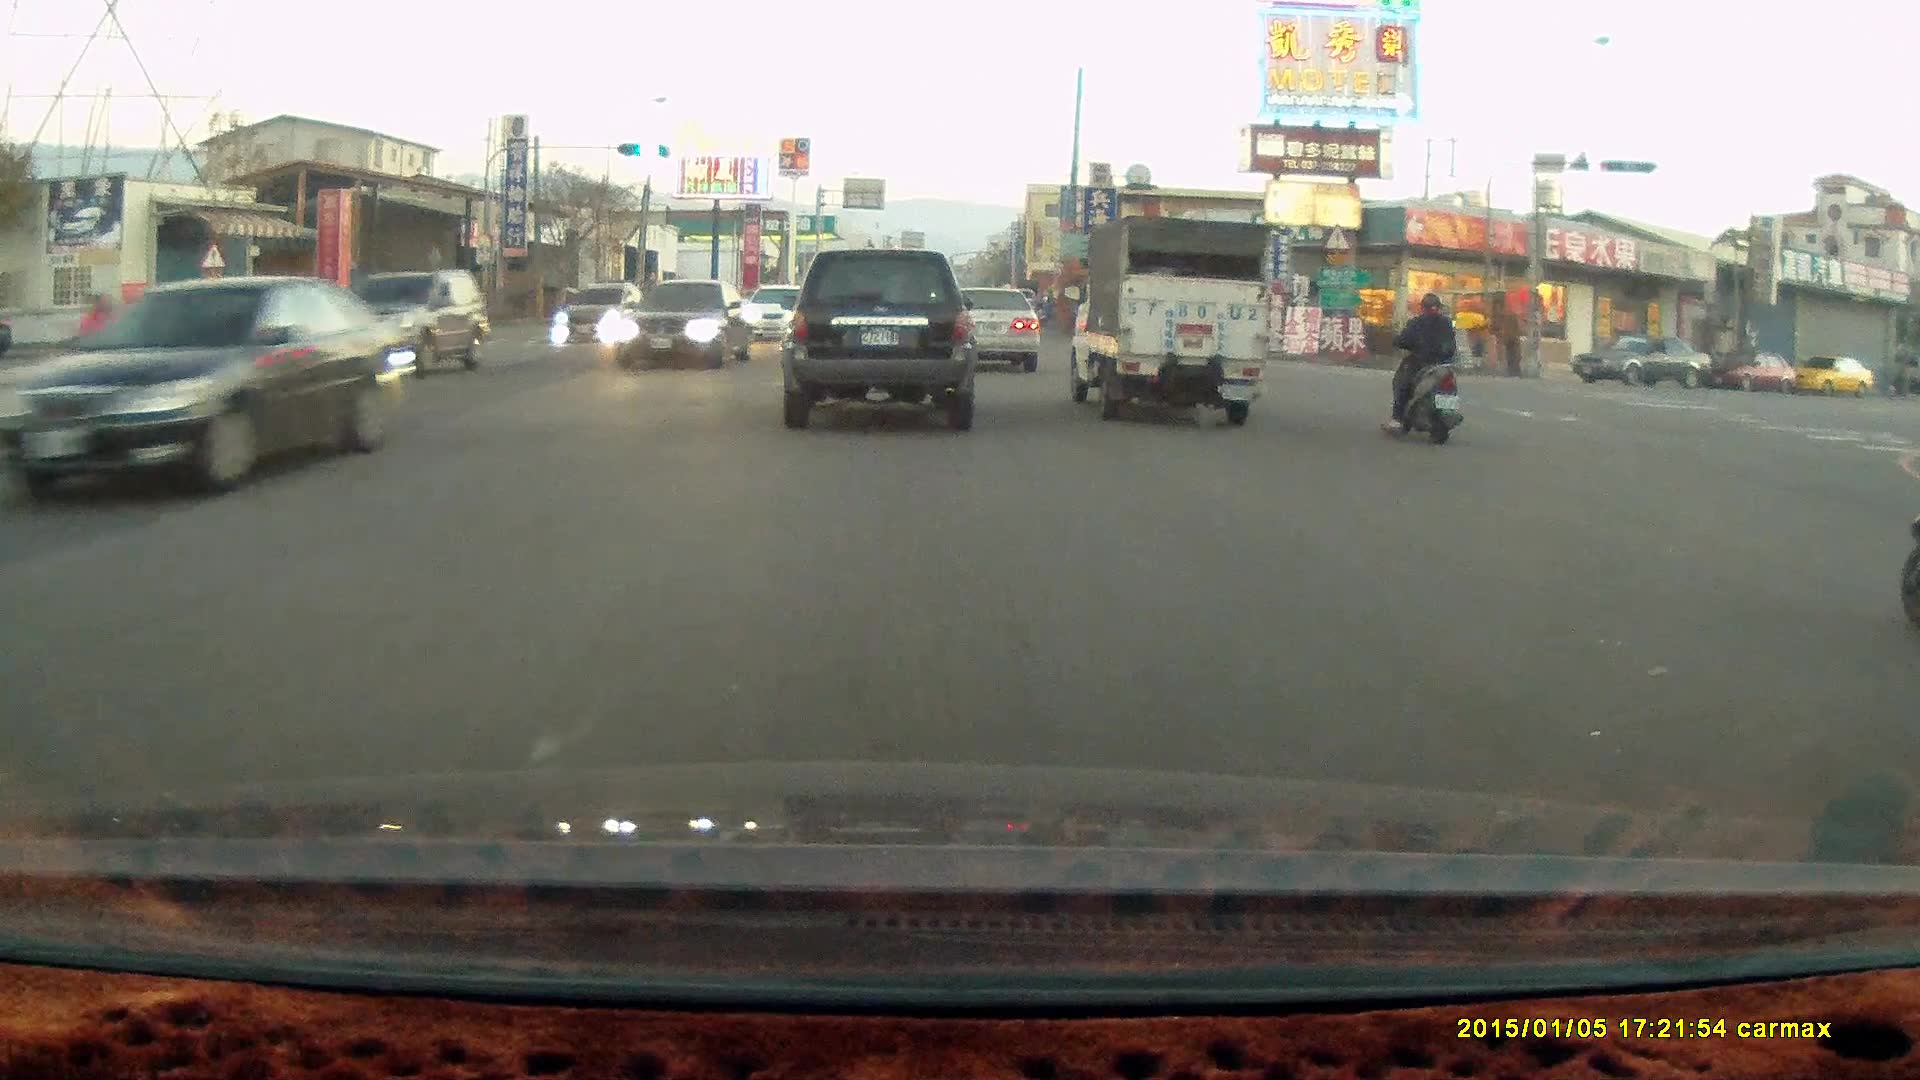rider: (1382, 291, 1461, 447)
vehicle: (1, 281, 418, 510), (1062, 213, 1276, 428), (780, 247, 977, 433), (615, 282, 758, 374), (928, 282, 1040, 374), (944, 287, 1044, 377), (1569, 333, 1717, 391), (558, 282, 645, 347), (349, 290, 461, 337), (1784, 357, 1877, 400), (1711, 351, 1800, 393)
